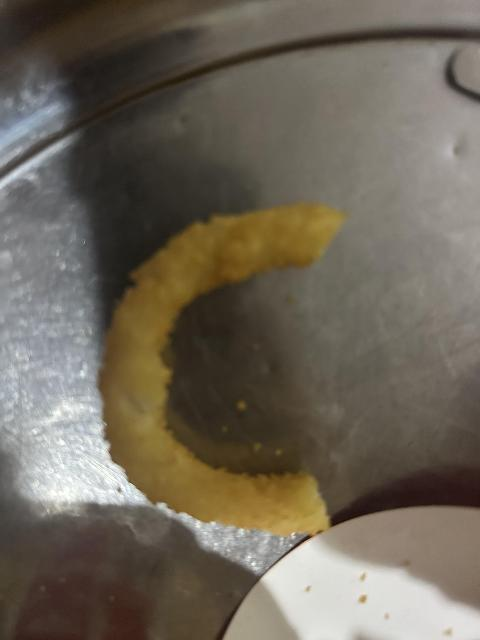Organik: (100, 194, 348, 544)
